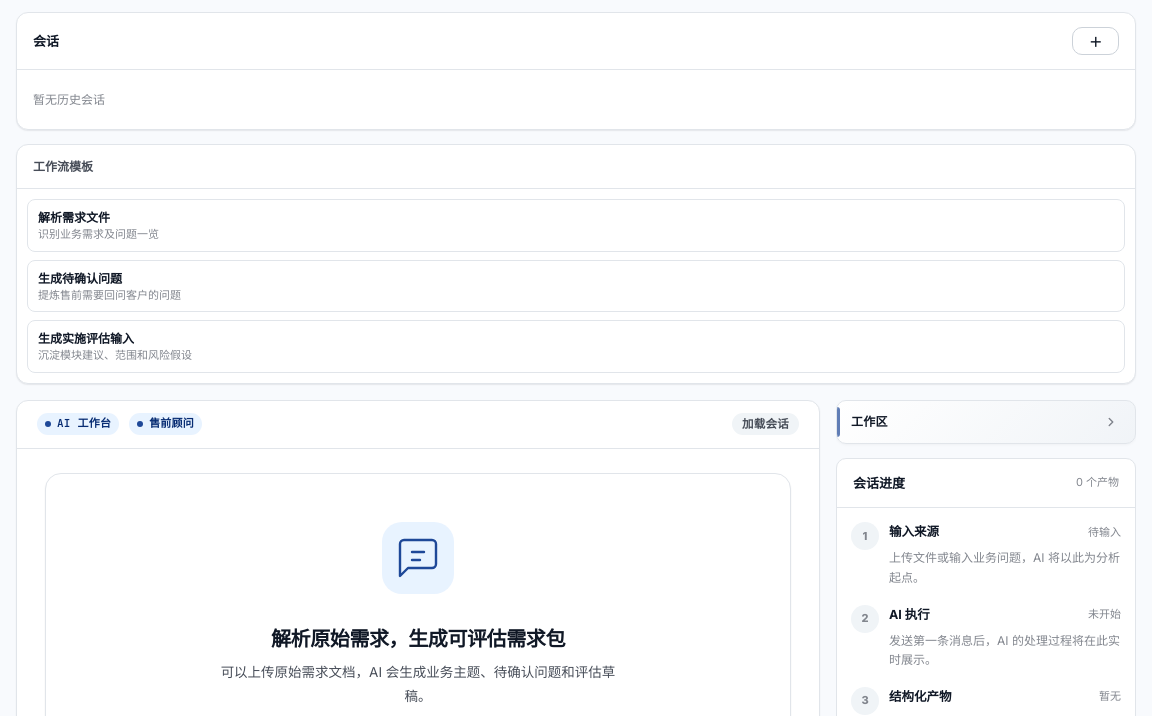
Scenario: AiHomeWorkbench › collapses AI workspace panel and remembers the preference
The width and height of the screenshot is (1152, 716).
Click the button named "折叠工作区" at (1111, 422), box x1=1097 y1=408 x2=1125 y2=436
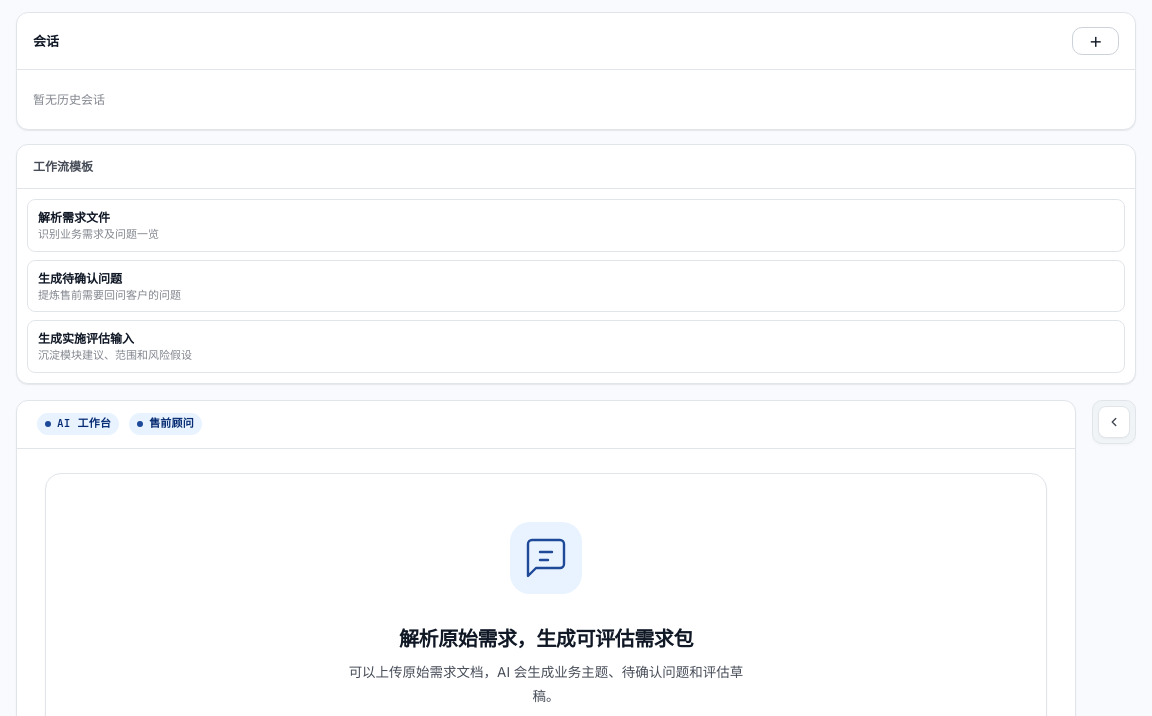
Result: the button named "展开工作区" is shown at x1=1098 y1=406 x2=1130 y2=438
